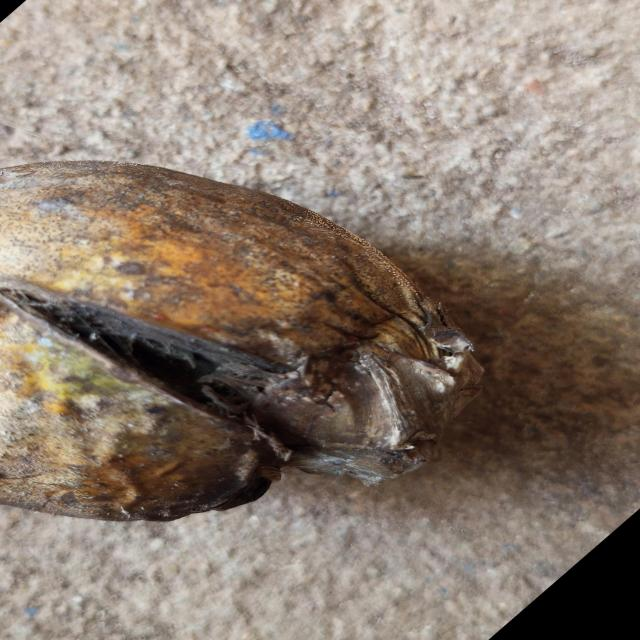damaged: (0, 160, 485, 525)
